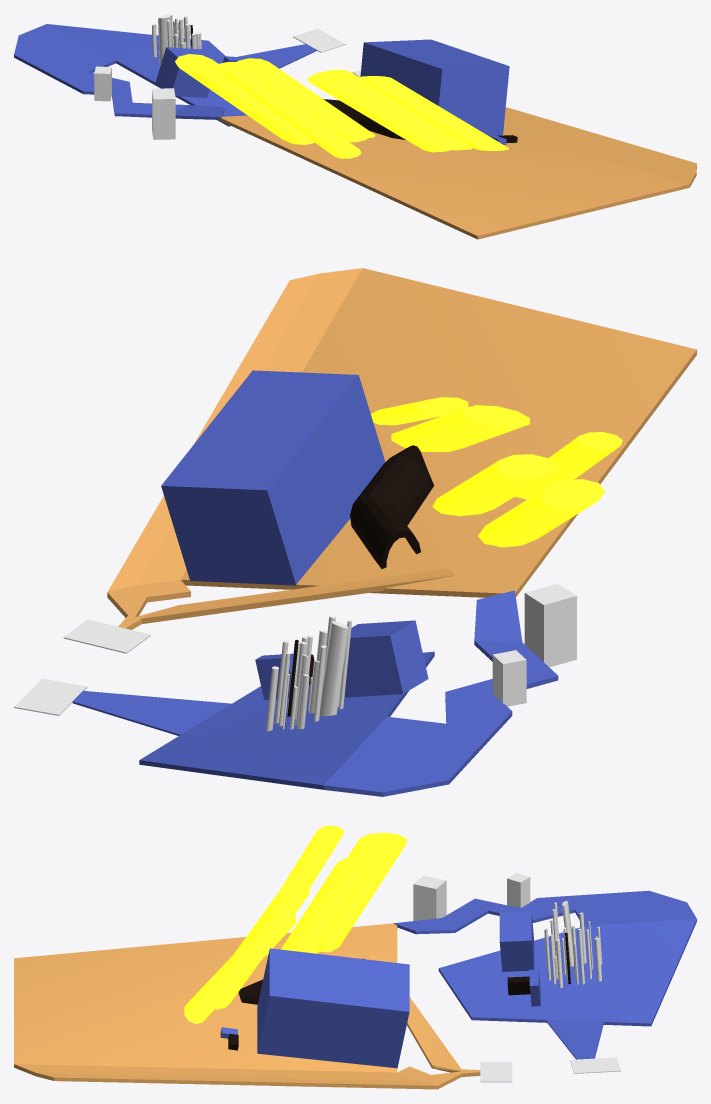
File: Map.fbx
The picture shows the model from 3 angles, top to bottom: view 1: azimuth 30°, elevation 25°; view 2: azimuth 150°, elevation 25°; view 3: azimuth 270°, elevation 25°; orthographic projection. The views are drawn at different scales.
Parts seen in each view (by area): view 1: Cube__1_, Cube__7_, Cube__2_, Cylinder__3_, Cylinder__2_, Cylinder, Cylinder__1_, Cylinder__4_, Cube__12_, Cube__9_, Cube__6_, Arch (+3 smaller); view 2: Cube__1_, Cube__2_, Cube__7_, Arch, Cube__12_, Cylinder, Cylinder__1_, Cylinder__3_, Cube__9_, Cube__6_, Cylinder__2_, Cube__8_ (+5 smaller); view 3: Cube__1_, Cube__7_, Cube__2_, Cylinder__1_, Cylinder__4_, Cylinder, Cube__12_, Cylinder__2_, Cube__6_, Cylinder__3_, Cube__9_, Cube__8_ (+3 smaller).
Part boxes in pixels (<box>): Cube__1_: <box>219,107,696,239</box>; Cube__7_: <box>14,24,247,126</box>; Cube__2_: <box>360,39,509,136</box>; Cylinder__3_: <box>308,69,472,152</box>; Cylinder__2_: <box>215,62,361,158</box>; Cylinder: <box>175,54,314,144</box>; Cylinder__1_: <box>237,58,375,142</box>; Cylinder__4_: <box>358,76,508,150</box>; Cube__12_: <box>155,47,217,97</box>; Cube__9_: <box>152,88,175,139</box>; Cube__6_: <box>237,44,316,68</box>; Arch: <box>323,99,406,140</box>; Cube__1_: <box>107,268,696,629</box>; Cube__2_: <box>161,370,385,585</box>; Cube__7_: <box>139,590,558,796</box>; Arch: <box>350,445,434,568</box>; Cube__12_: <box>345,620,428,697</box>; Cylinder: <box>478,479,604,547</box>; Cylinder__1_: <box>432,454,556,516</box>; Cylinder__3_: <box>391,405,529,451</box>; Cube__9_: <box>524,583,576,667</box>; Cube__6_: <box>72,690,231,735</box>; Cylinder__2_: <box>515,432,622,499</box>; Cube__8_: <box>492,650,526,706</box>; Cube__1_: <box>14,923,480,1089</box>; Cube__7_: <box>393,890,696,1026</box>; Cube__2_: <box>257,948,409,1068</box>; Cylinder__1_: <box>281,857,373,953</box>; Cylinder__4_: <box>184,906,295,1023</box>; Cylinder: <box>319,832,406,952</box>; Cube__12_: <box>499,911,534,971</box>; Cylinder__2_: <box>265,825,343,956</box>; Cube__6_: <box>545,1020,603,1059</box>; Cylinder__3_: <box>215,880,309,1009</box>; Cube__9_: <box>413,875,446,920</box>; Cube__8_: <box>507,873,530,908</box>.
Bounding box in the file's own units: 27821 × 8462 × 41048.
